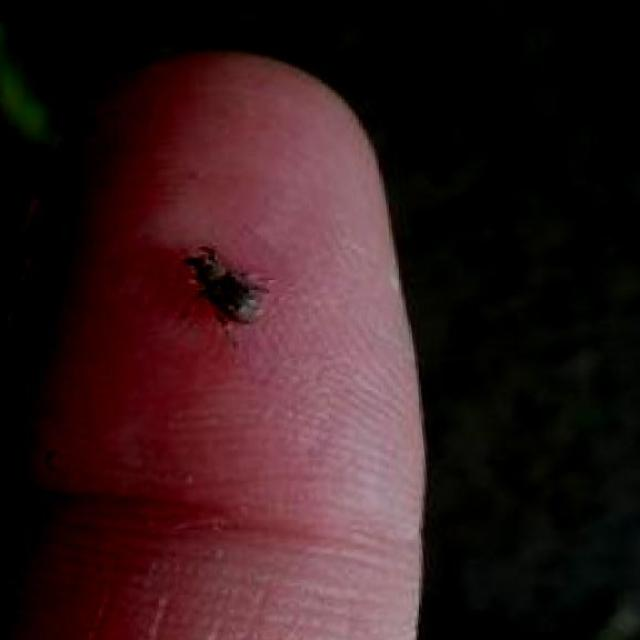ricebug: (187, 248, 268, 323)
